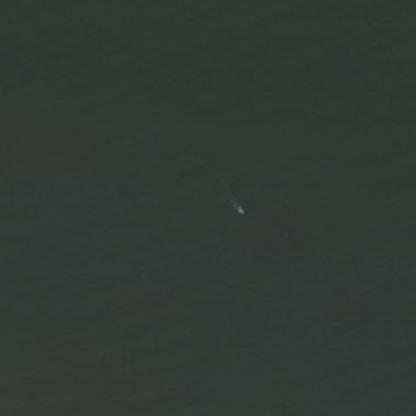ship: (234, 202, 245, 215)
